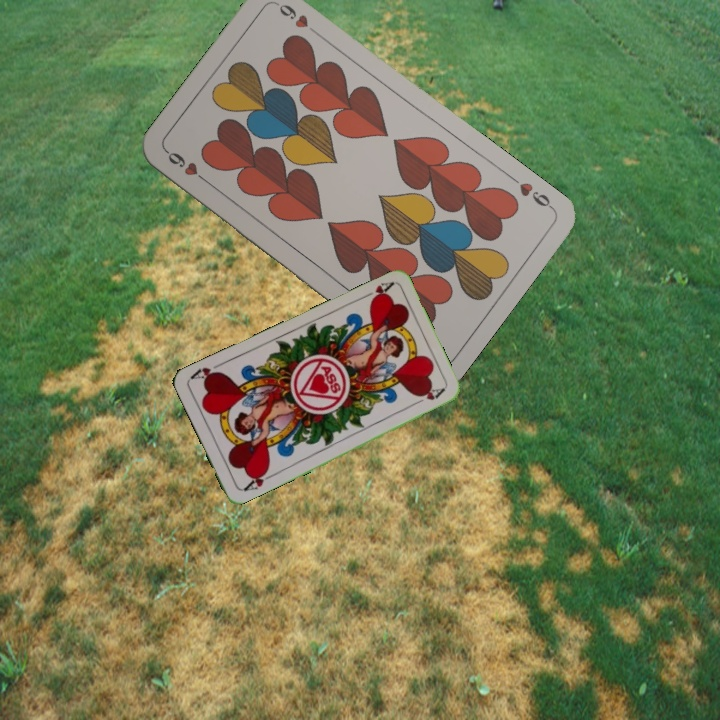H9: (162, 146, 213, 187), (505, 171, 556, 212)
HA: (239, 465, 276, 494), (357, 278, 396, 305)
